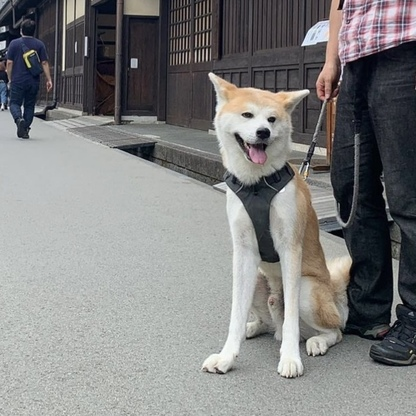akita: (187, 66, 354, 382)
